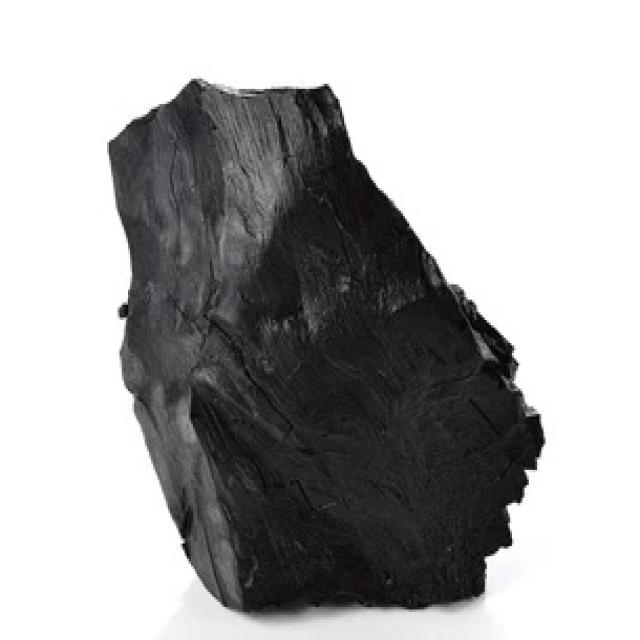Sedimentary: (97, 66, 560, 610)
